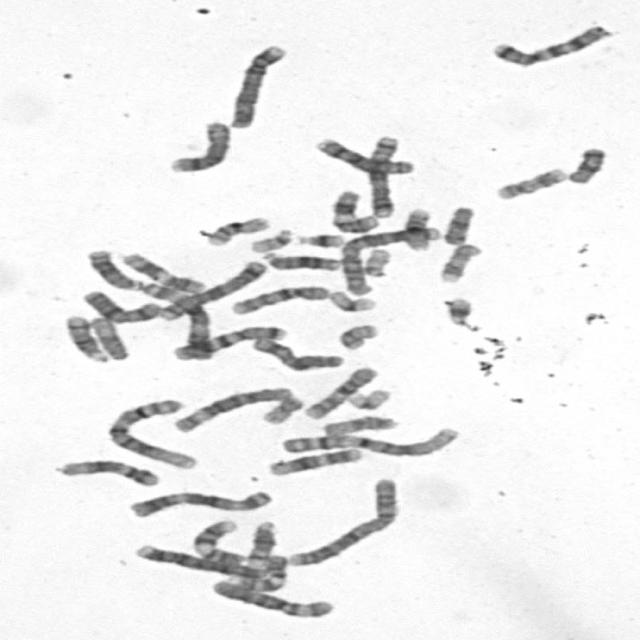A1: (101, 396, 200, 470), (278, 426, 461, 458)
A2: (283, 474, 401, 568), (335, 224, 444, 298)
A3: (137, 274, 213, 362), (124, 487, 276, 518)
B4: (225, 42, 289, 129), (130, 542, 269, 580)
B5: (154, 258, 268, 322), (363, 134, 403, 218)
C10: (298, 364, 379, 421), (226, 282, 333, 317)
C11: (118, 250, 206, 294), (326, 188, 381, 234)
C12: (263, 444, 364, 477), (52, 457, 162, 487)
C6: (168, 384, 295, 435), (207, 577, 337, 620)
C7: (485, 22, 614, 70), (168, 322, 290, 361)
C8: (310, 135, 416, 177), (164, 118, 232, 175)
C9: (188, 517, 244, 564), (224, 553, 290, 592)
D13: (86, 248, 146, 295), (258, 249, 342, 272)
D14: (60, 312, 110, 364), (243, 518, 278, 564)
D15: (87, 314, 130, 362), (319, 413, 400, 437)
E16: (201, 214, 272, 247), (398, 205, 436, 251)
E17: (490, 164, 569, 200), (433, 242, 483, 284)
E18: (564, 144, 609, 184), (439, 204, 477, 246)
F19: (325, 288, 378, 314), (342, 386, 392, 411)
F20: (257, 393, 307, 426), (334, 322, 382, 351)
G21: (440, 294, 478, 330), (292, 230, 346, 249)
G22: (246, 227, 294, 253), (359, 246, 394, 277)
X: (249, 335, 346, 371), (77, 288, 163, 325)
